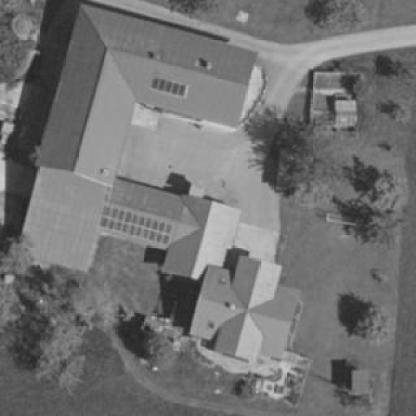solar-pv-panel: (98, 205, 173, 245), (148, 76, 189, 98)
